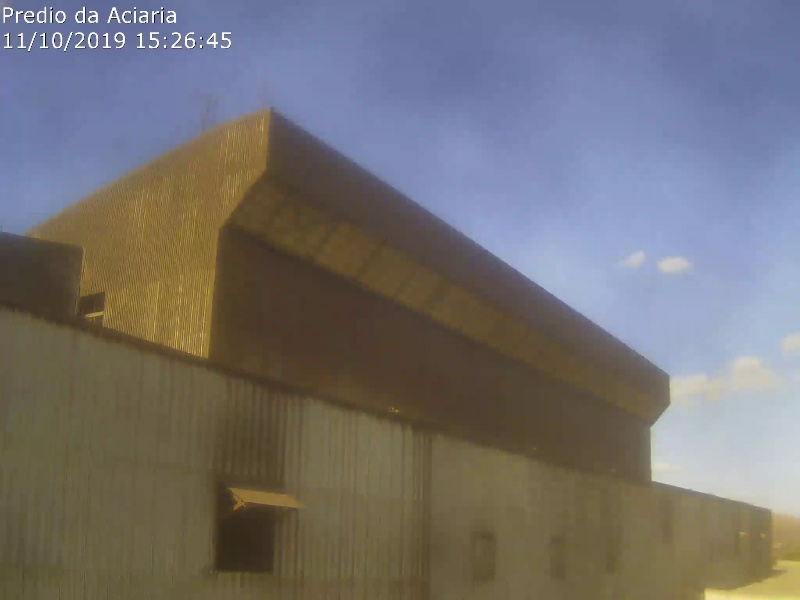bom: (257, 49, 710, 415), (12, 17, 291, 170), (565, 279, 768, 463)
